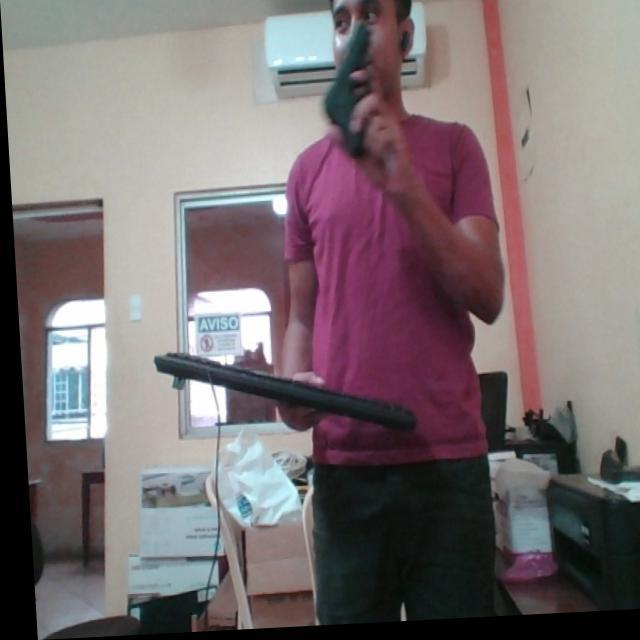weapon: (316, 23, 382, 164)
